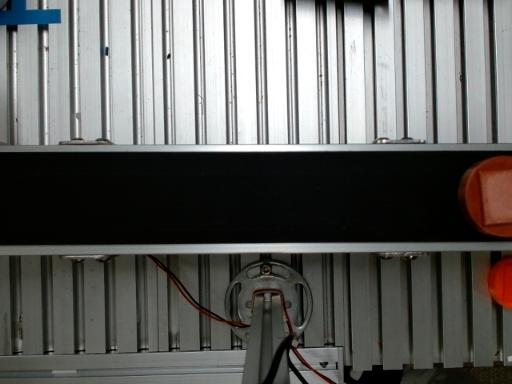Brown_Waper: (458, 156, 511, 238)
